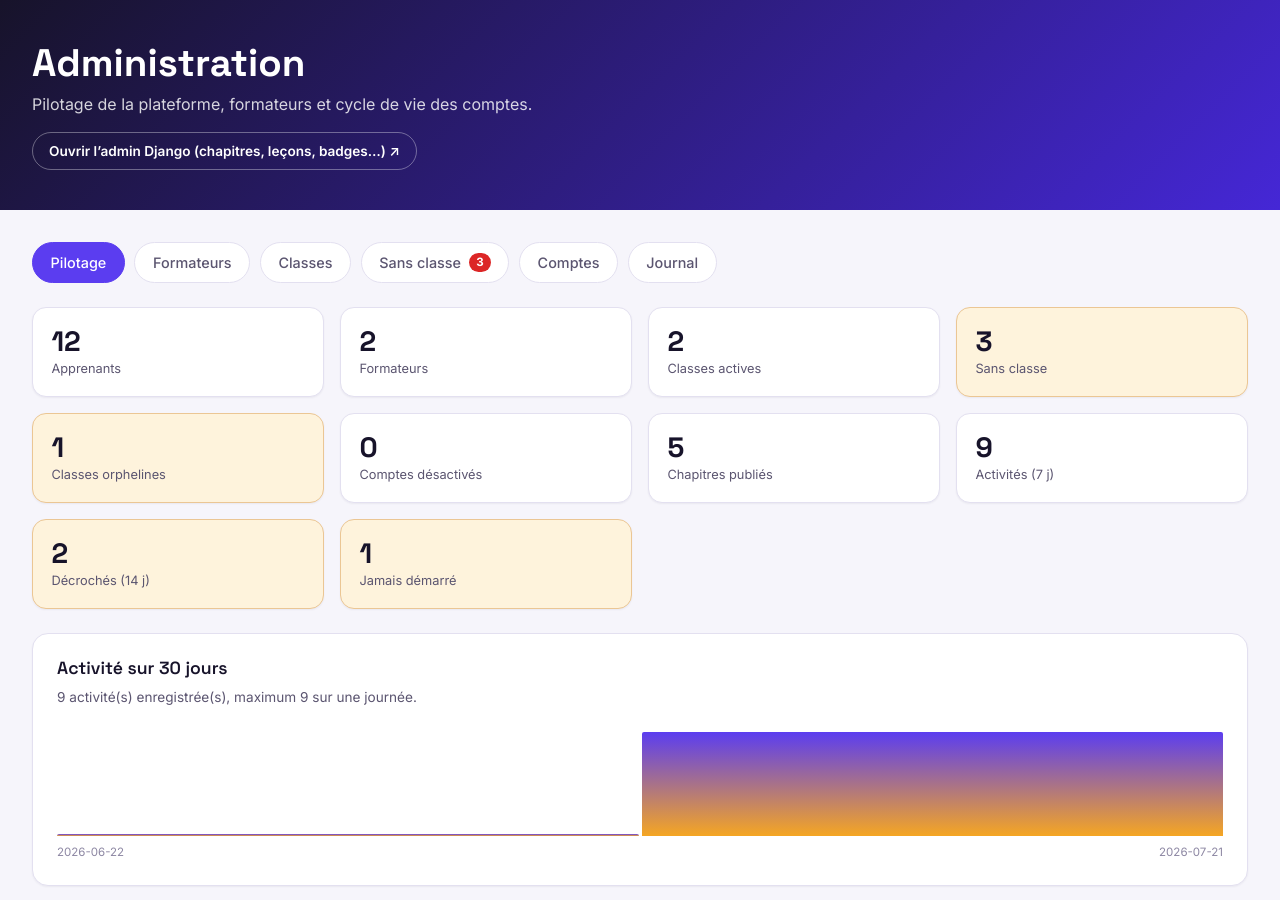
AdminSpace › n’affiche jamais le lien d’une invitation révoquée
What coordinates should you click on to do the following:
click the button "Formateurs"
I would click on:
 (192, 263)
Its box is top-left (134, 242), bottom-right (250, 283).
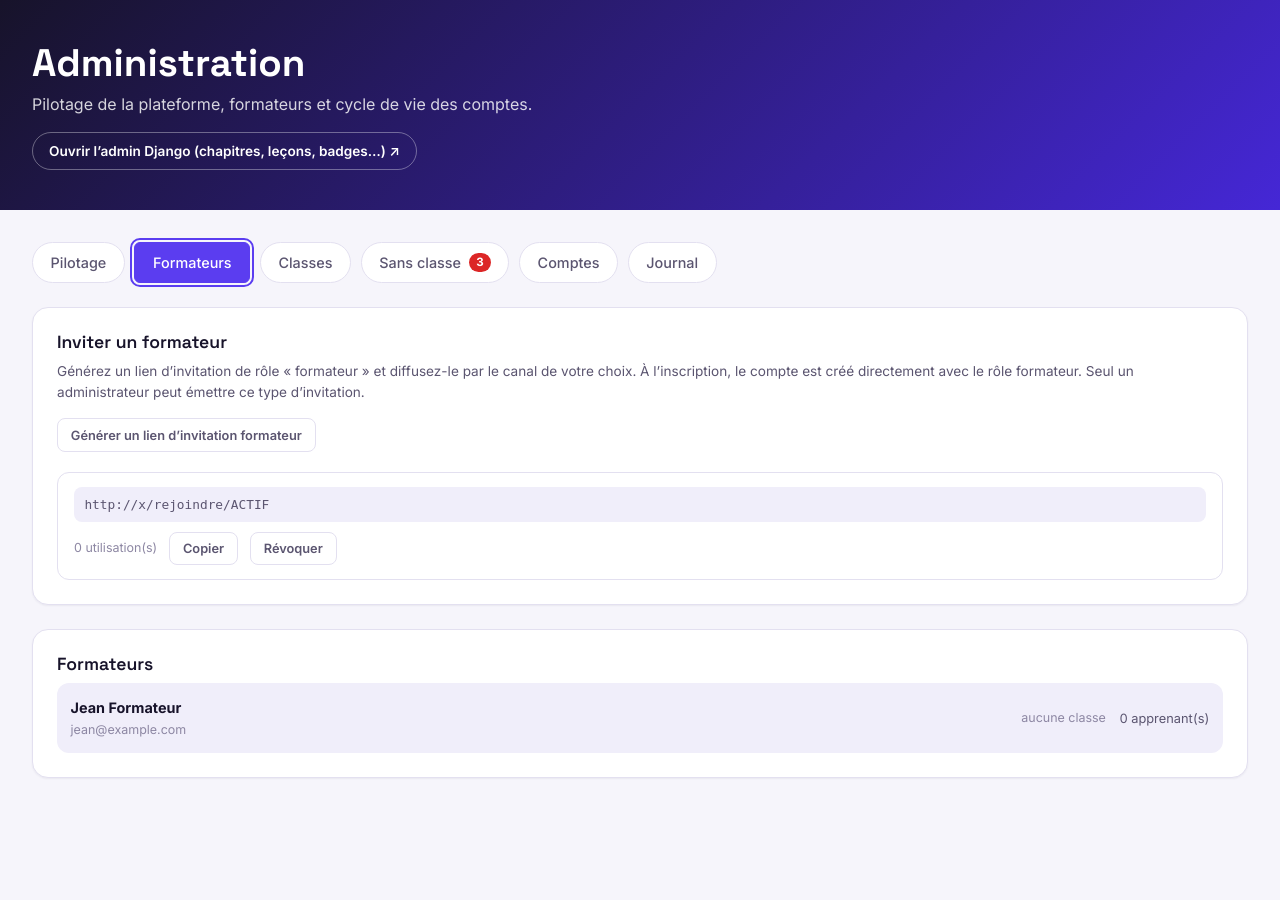
Expected: the text "http://x/rejoindre/ACTIF" is shown, top-left (74, 487), bottom-right (1206, 522)
